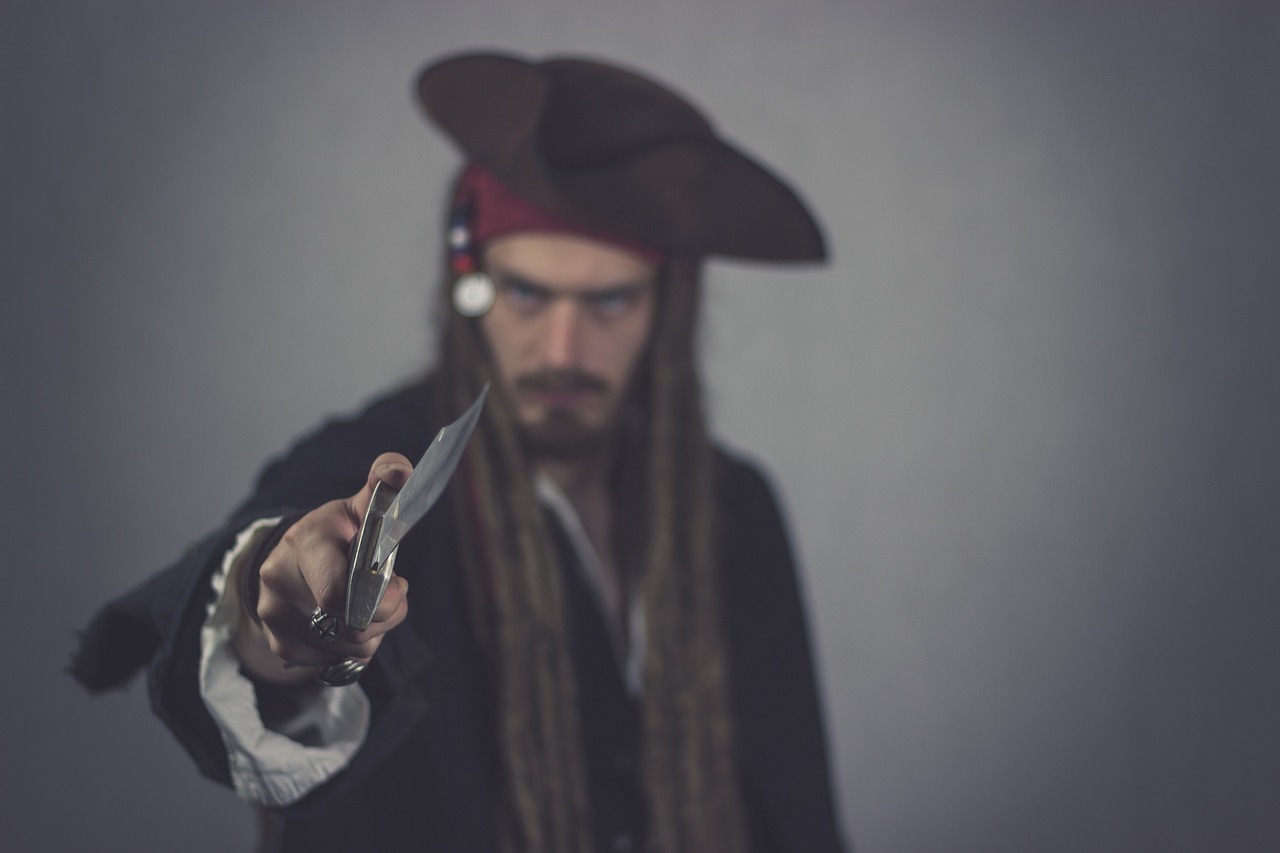knife: (261, 381, 500, 659)
